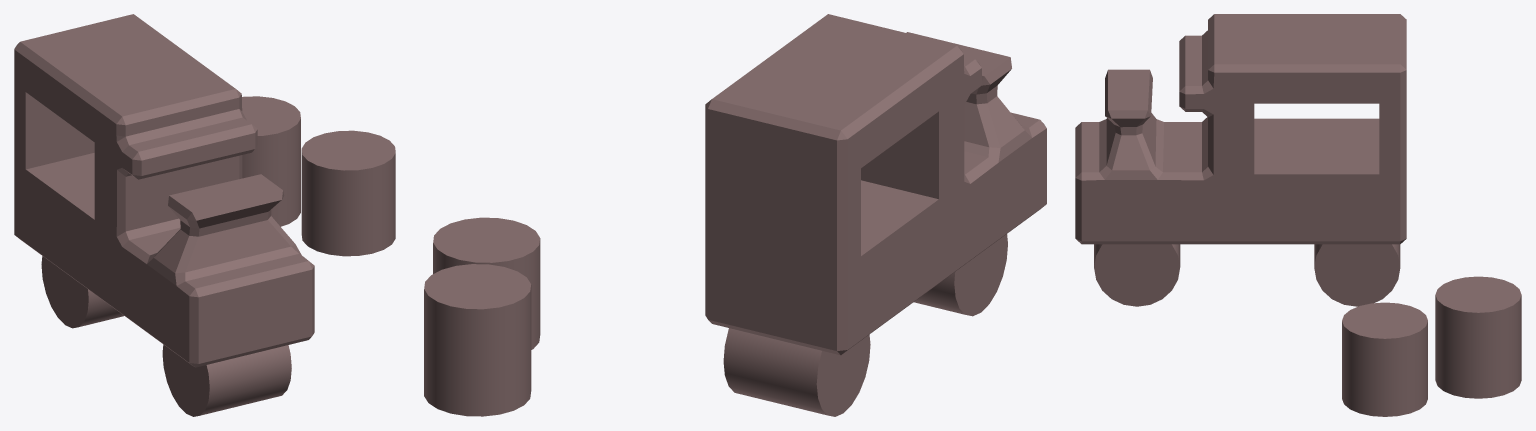
Rendered from Obj_26_tren_low_poly.fbx.
3 renders of one model, left to right at view 1: azimuth 30°, elevation 25°; view 2: azimuth 150°, elevation 25°; view 3: azimuth 270°, elevation 25°, orthographic. The views are drawn at different scales.
Parts seen in each view (by area): view 1: Obj_26_tren_low_poly; view 2: Obj_26_tren_low_poly; view 3: Obj_26_tren_low_poly.
Boxes of the visible parts, box(x1,y1,x2,y2) form: Obj_26_tren_low_poly: box(14, 14, 395, 416); Obj_26_tren_low_poly: box(424, 14, 1046, 416); Obj_26_tren_low_poly: box(1075, 14, 1521, 416).
Bounding box in the file's own units: 0.3118 × 0.2202 × 0.3607.
